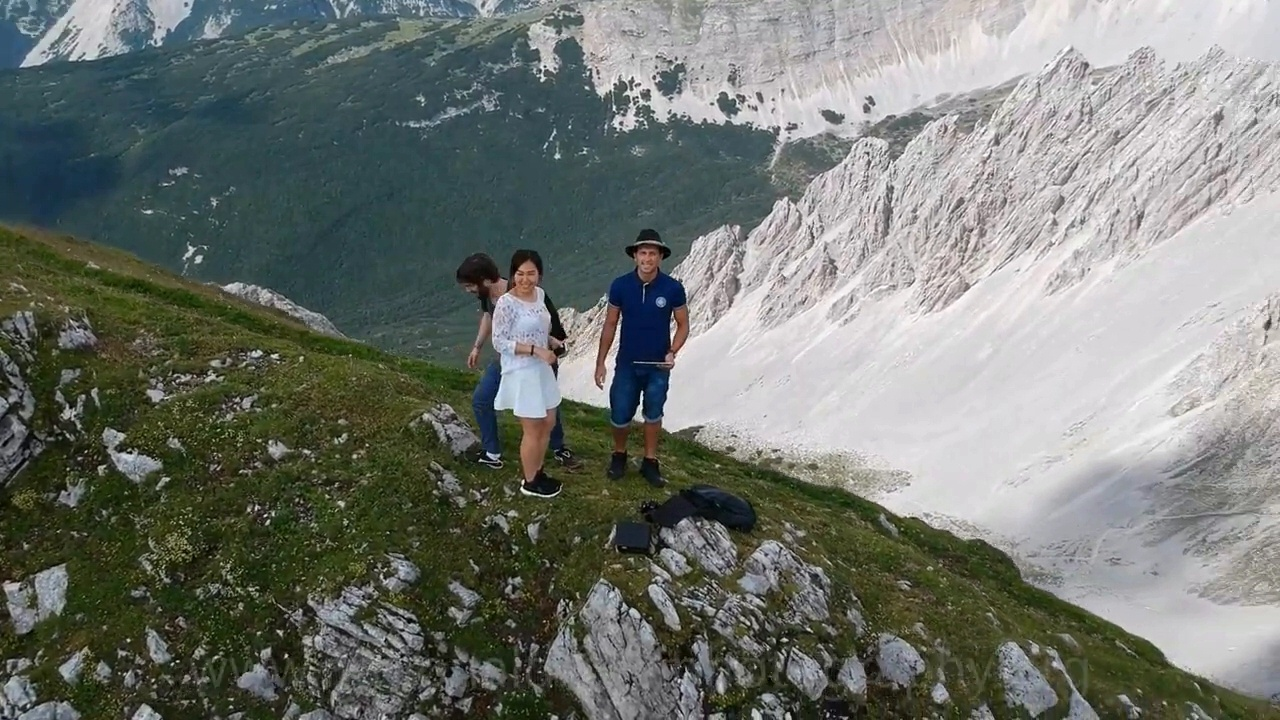insan: (454, 251, 569, 462), (597, 227, 692, 482), (501, 254, 565, 497)
